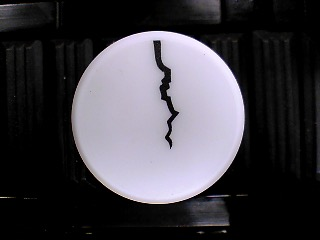CRACK: (70, 30, 246, 205)
